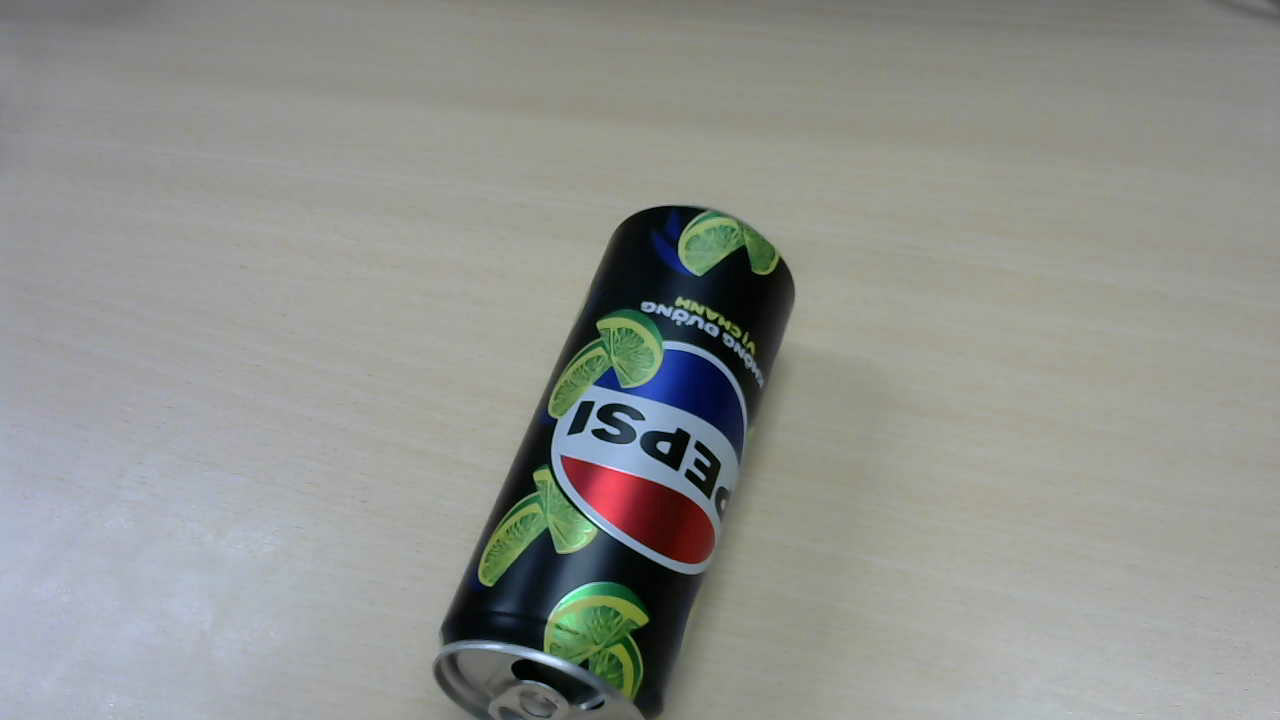Pepsi: (437, 207, 803, 699)
